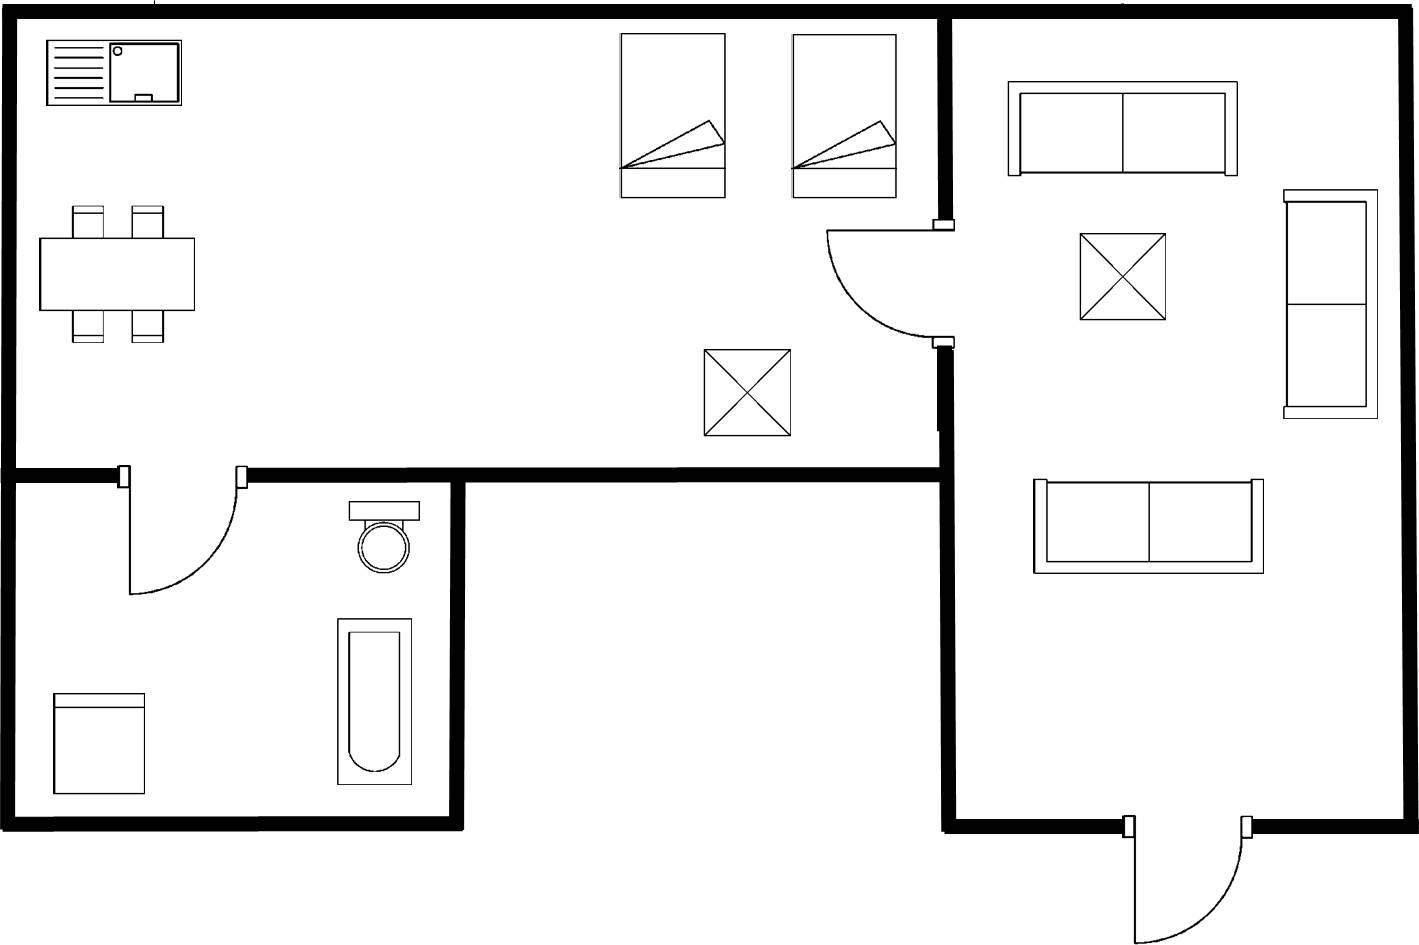bed: (613, 26, 730, 206), (786, 27, 900, 205)
dining_table: (32, 198, 201, 346)
sink: (40, 32, 188, 112)
sofa: (1002, 74, 1242, 181), (1276, 184, 1380, 424), (1029, 472, 1267, 576)
toilet: (343, 494, 425, 575)
tub: (329, 611, 417, 789)
